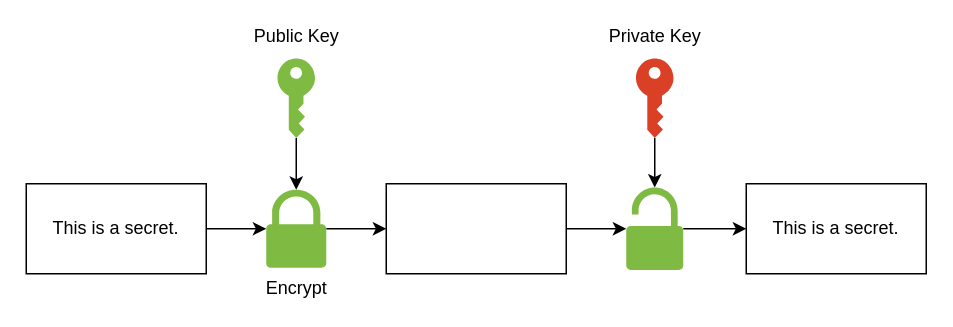
Some shapes in this 953 by 327 pixel diagram are drawn without their labels. Each missing label, with the centre of its shape:
6EB69570 08E03CE4: (475,228)
Decrypt: (654,228)
